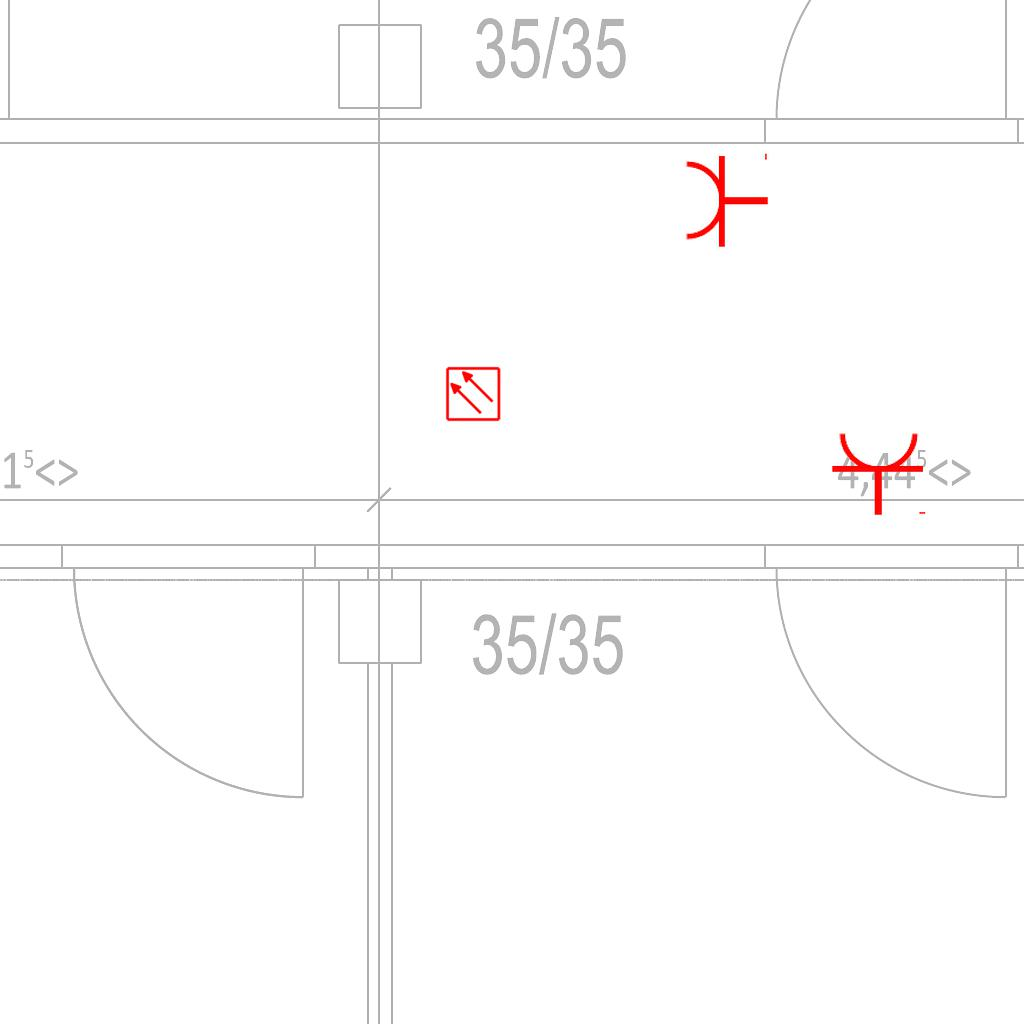RMO_Rauchmelder_optischer: (445, 366, 501, 422)
Schukosteckdose_einfach: (830, 430, 930, 517), (683, 149, 770, 249)
